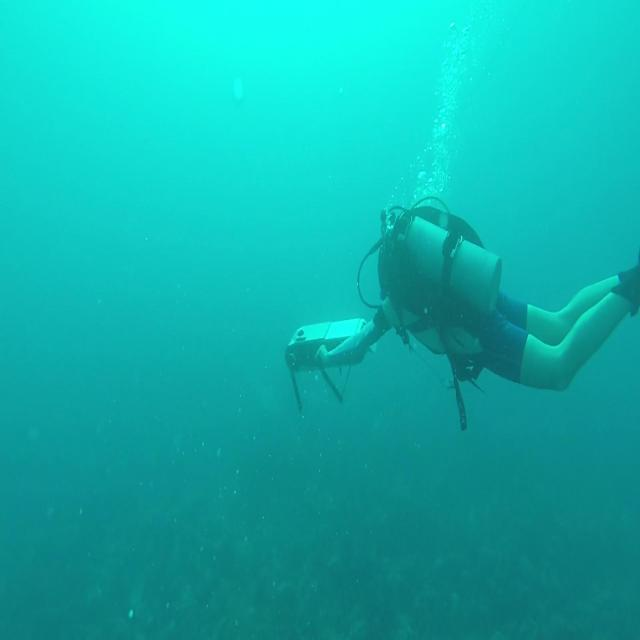human: (285, 194, 639, 431)
